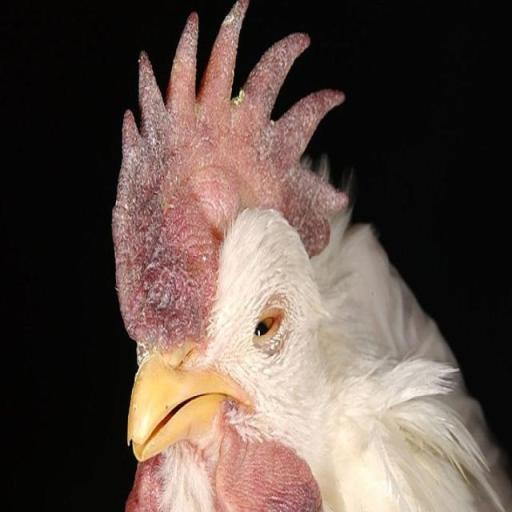disease: (74, 0, 352, 358)
